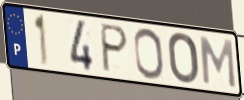1: (33, 12, 49, 70)
4: (69, 19, 95, 73)
M: (198, 35, 238, 91)
O: (132, 27, 166, 81), (167, 31, 200, 86)
P: (100, 22, 130, 74)
